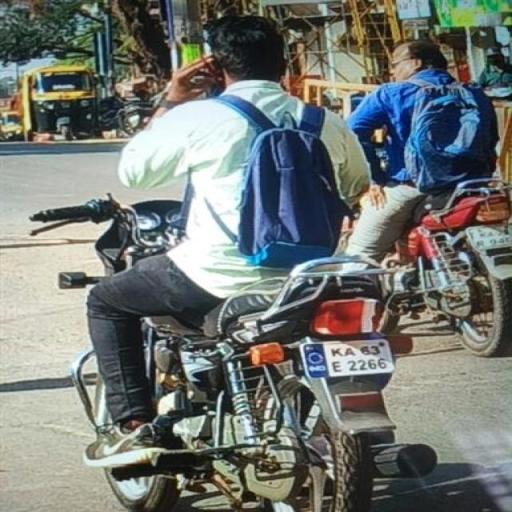using mobile: (172, 53, 218, 103)
